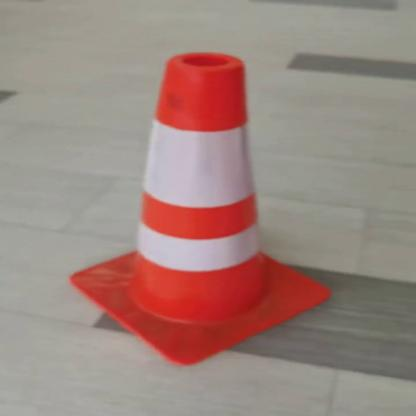cone: (55, 44, 343, 370)
